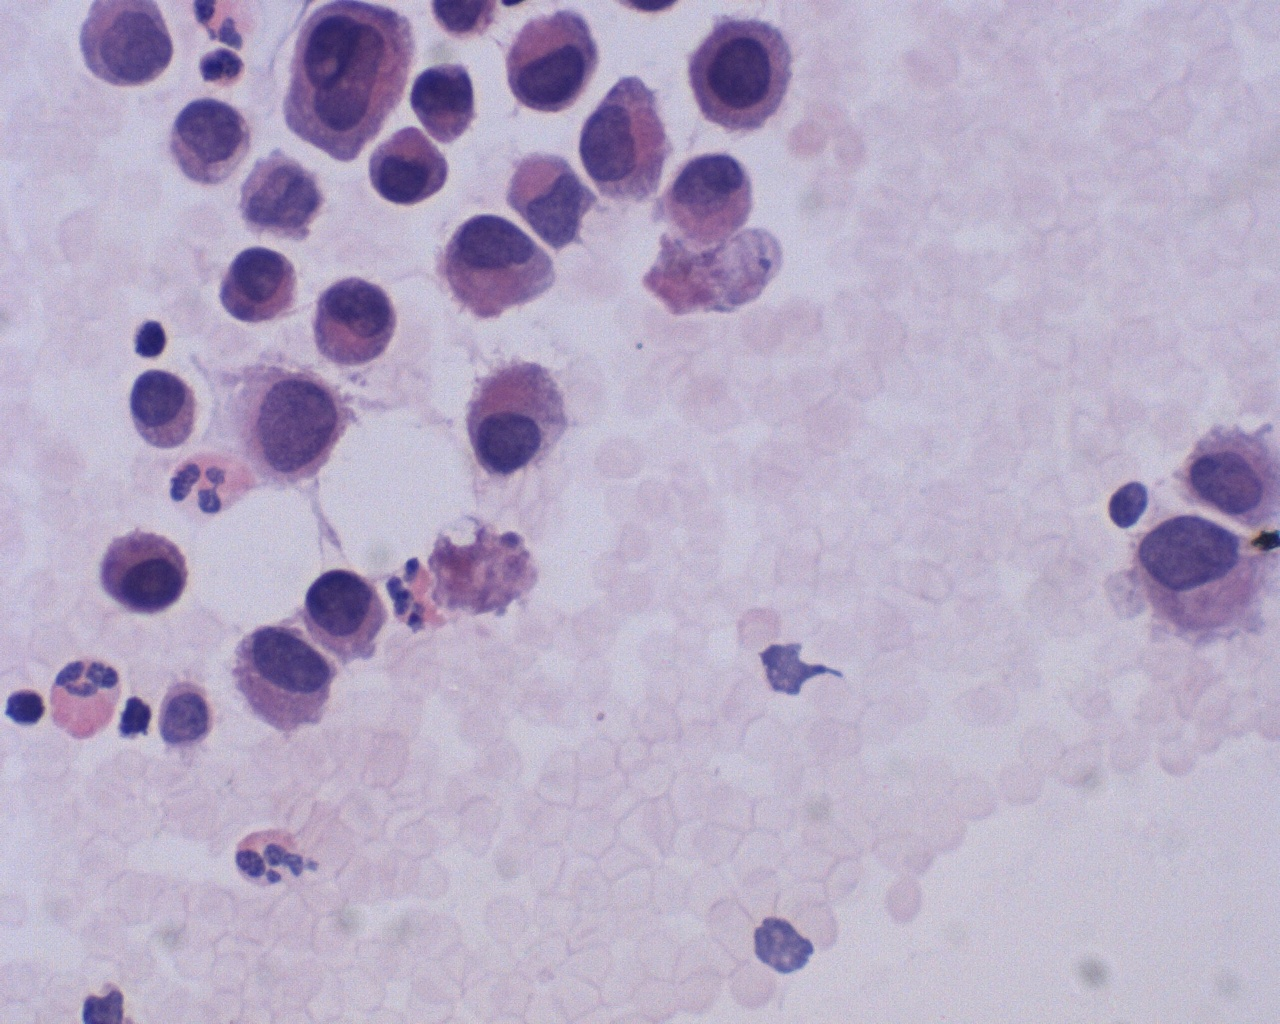ab: (281, 1, 417, 172), (224, 360, 368, 493), (1137, 512, 1273, 642), (683, 14, 812, 143), (443, 216, 566, 330), (493, 6, 610, 116), (225, 622, 339, 732), (576, 71, 668, 205), (304, 270, 397, 375), (162, 95, 259, 186), (306, 572, 390, 662), (404, 56, 482, 149)
